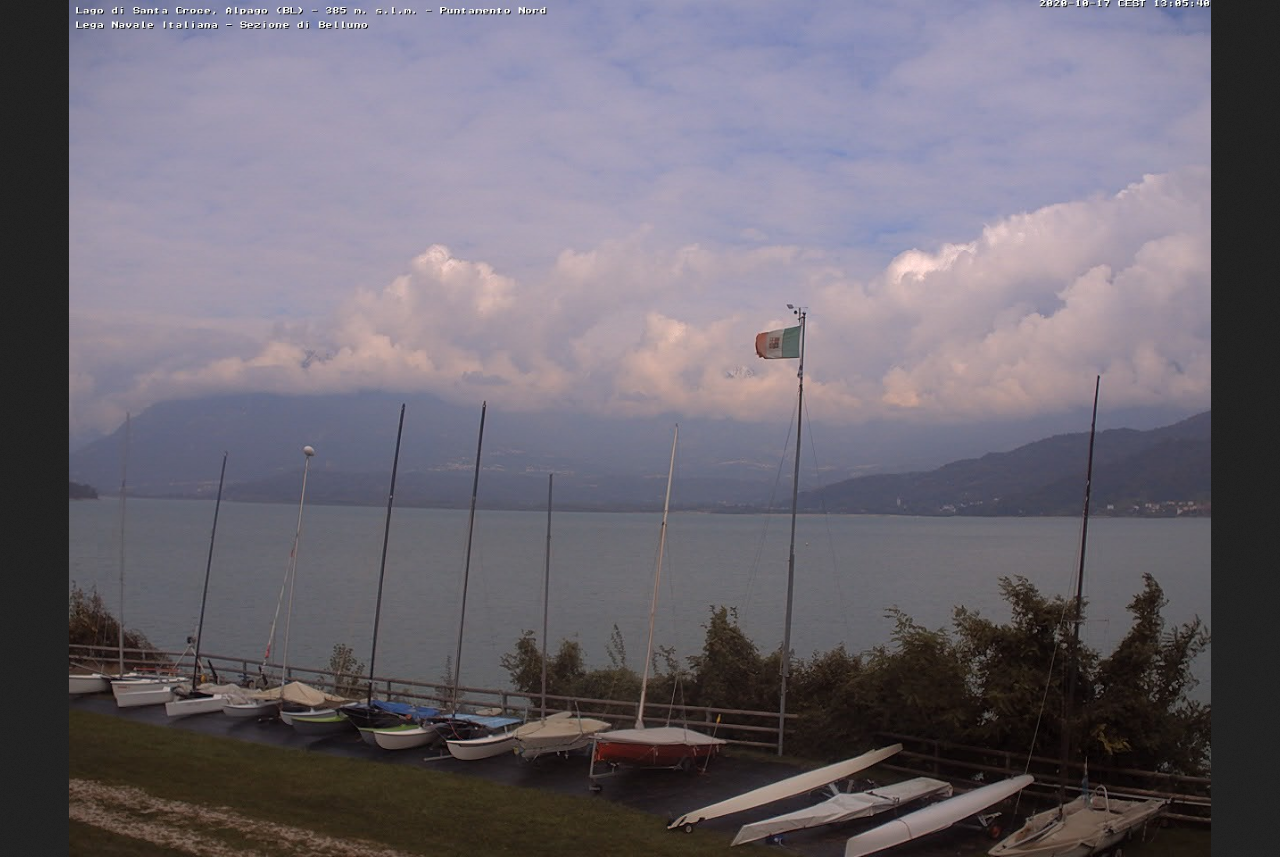yes: (750, 320, 807, 365)
